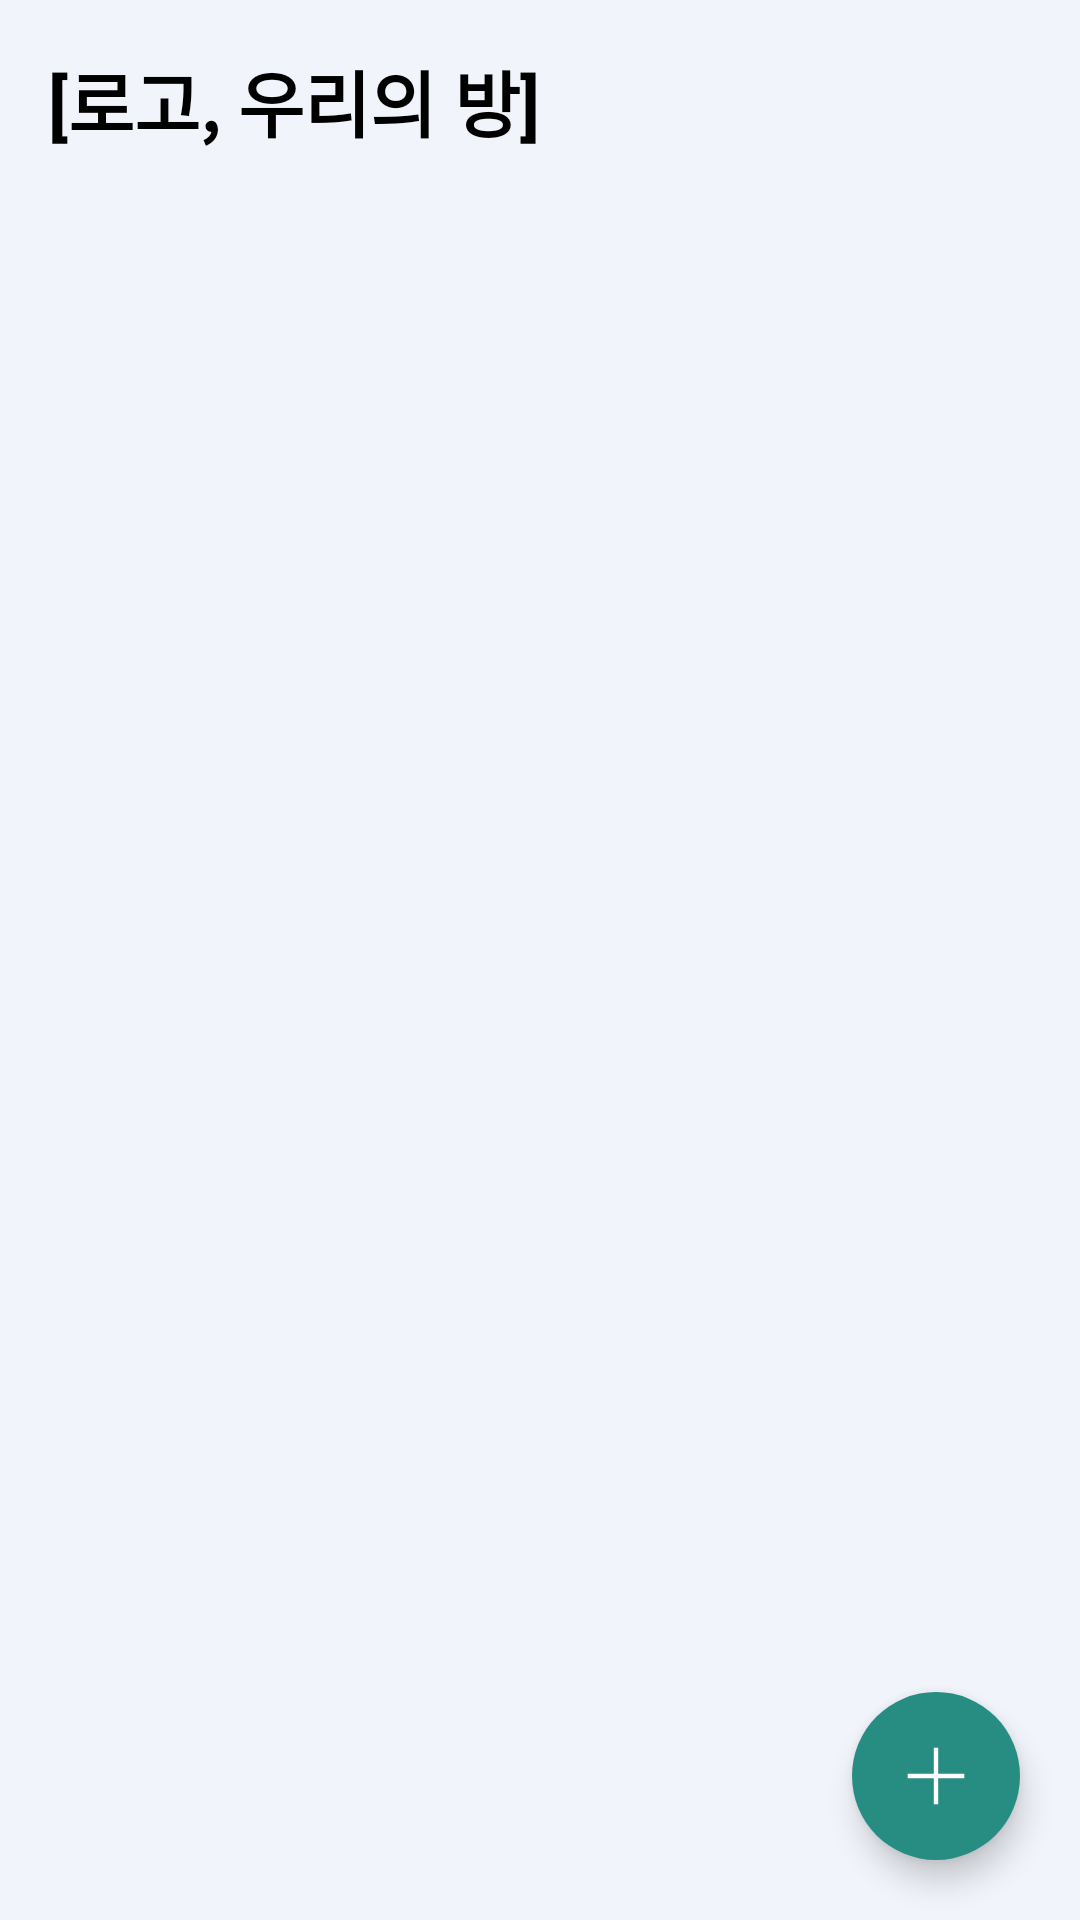

Screen size 1080px×1920px. Icon name, then its center in pixels as (x=x, y=y):
방 추가: (x=936, y=1776)
